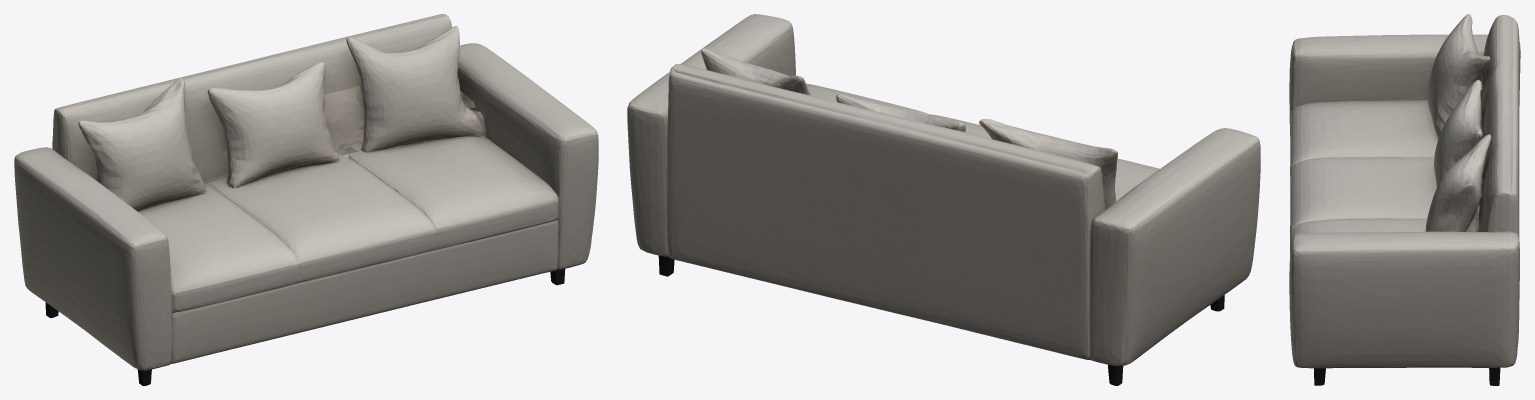
The model's file is sofa_single_3div_square_arm_ma.glb.
The picture shows the model from 3 angles, left to right: view 1: azimuth 30°, elevation 25°; view 2: azimuth 150°, elevation 25°; view 3: azimuth 270°, elevation 25°; orthographic projection. The views are drawn at different scales.
Visible parts, largest first — view 1: world; view 2: world; view 3: world.
Boxes of the visible parts, x1,y1,x2,y2 form: world: (14, 14, 598, 385); world: (627, 14, 1260, 385); world: (1289, 14, 1520, 385).
Size of the model in its own units: 0.9989 by 0.4217 by 0.4502.
1 material, 1 textured.
